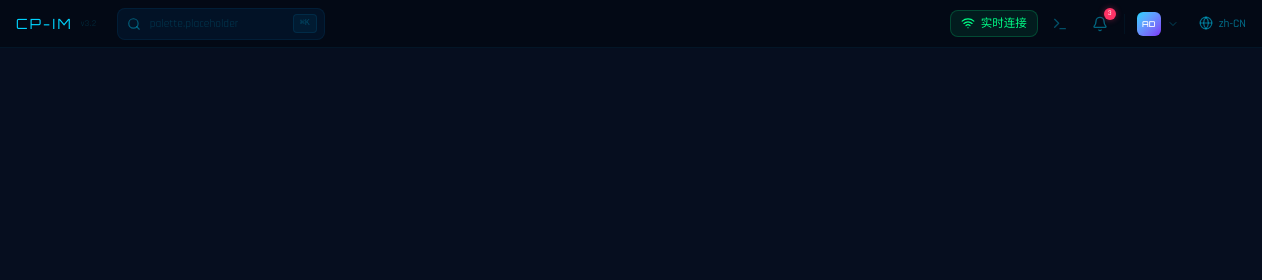
Scenario: TopBar › 通知面板 › 点击通知按钮应显示通知面板
This screenshot has width=1262, height=280.
Click the button "3" at (1100, 24), box [1082,6,1118,42]
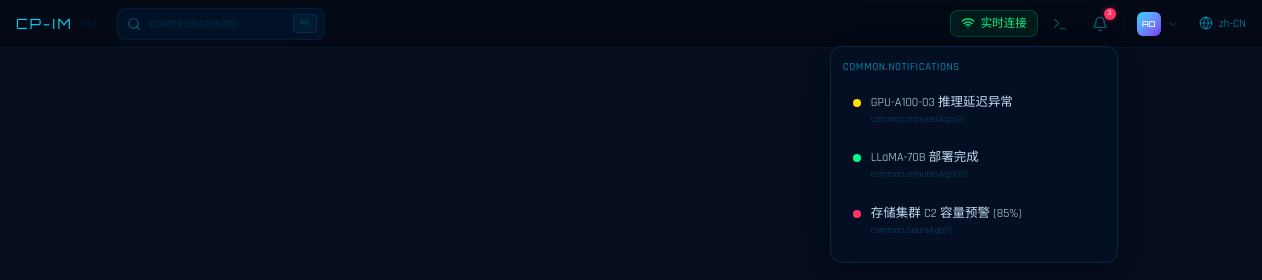
Result: the text "GPU-A100-03 推理延迟异常" is shown at [871,94,1013,110]
